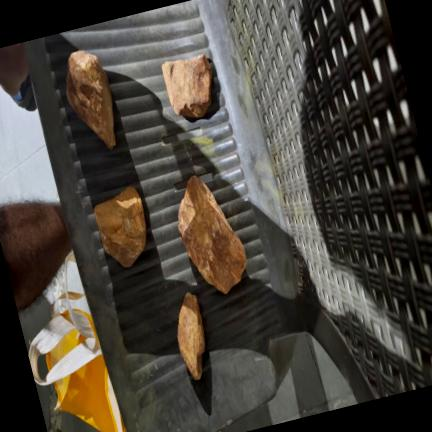Rocks: (177, 176, 245, 292), (65, 50, 114, 147), (93, 187, 145, 266), (161, 54, 211, 117), (177, 293, 204, 379)
